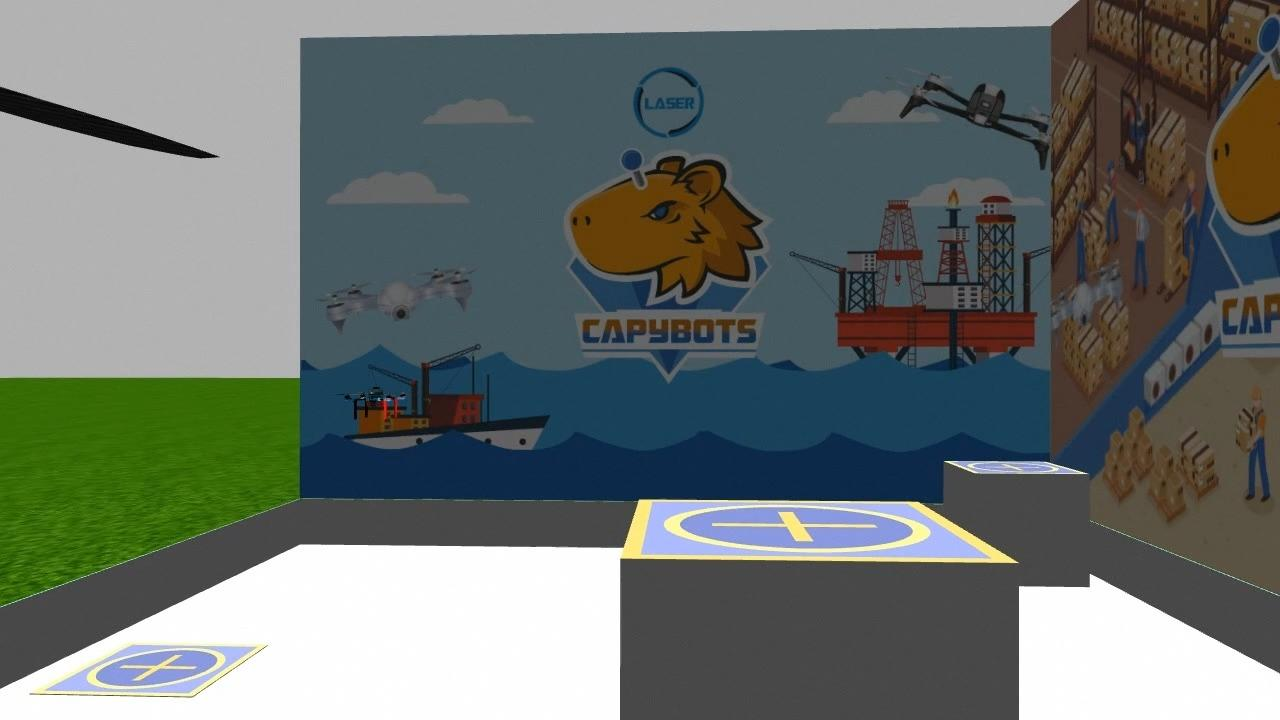UAV: (334, 377, 418, 433)
